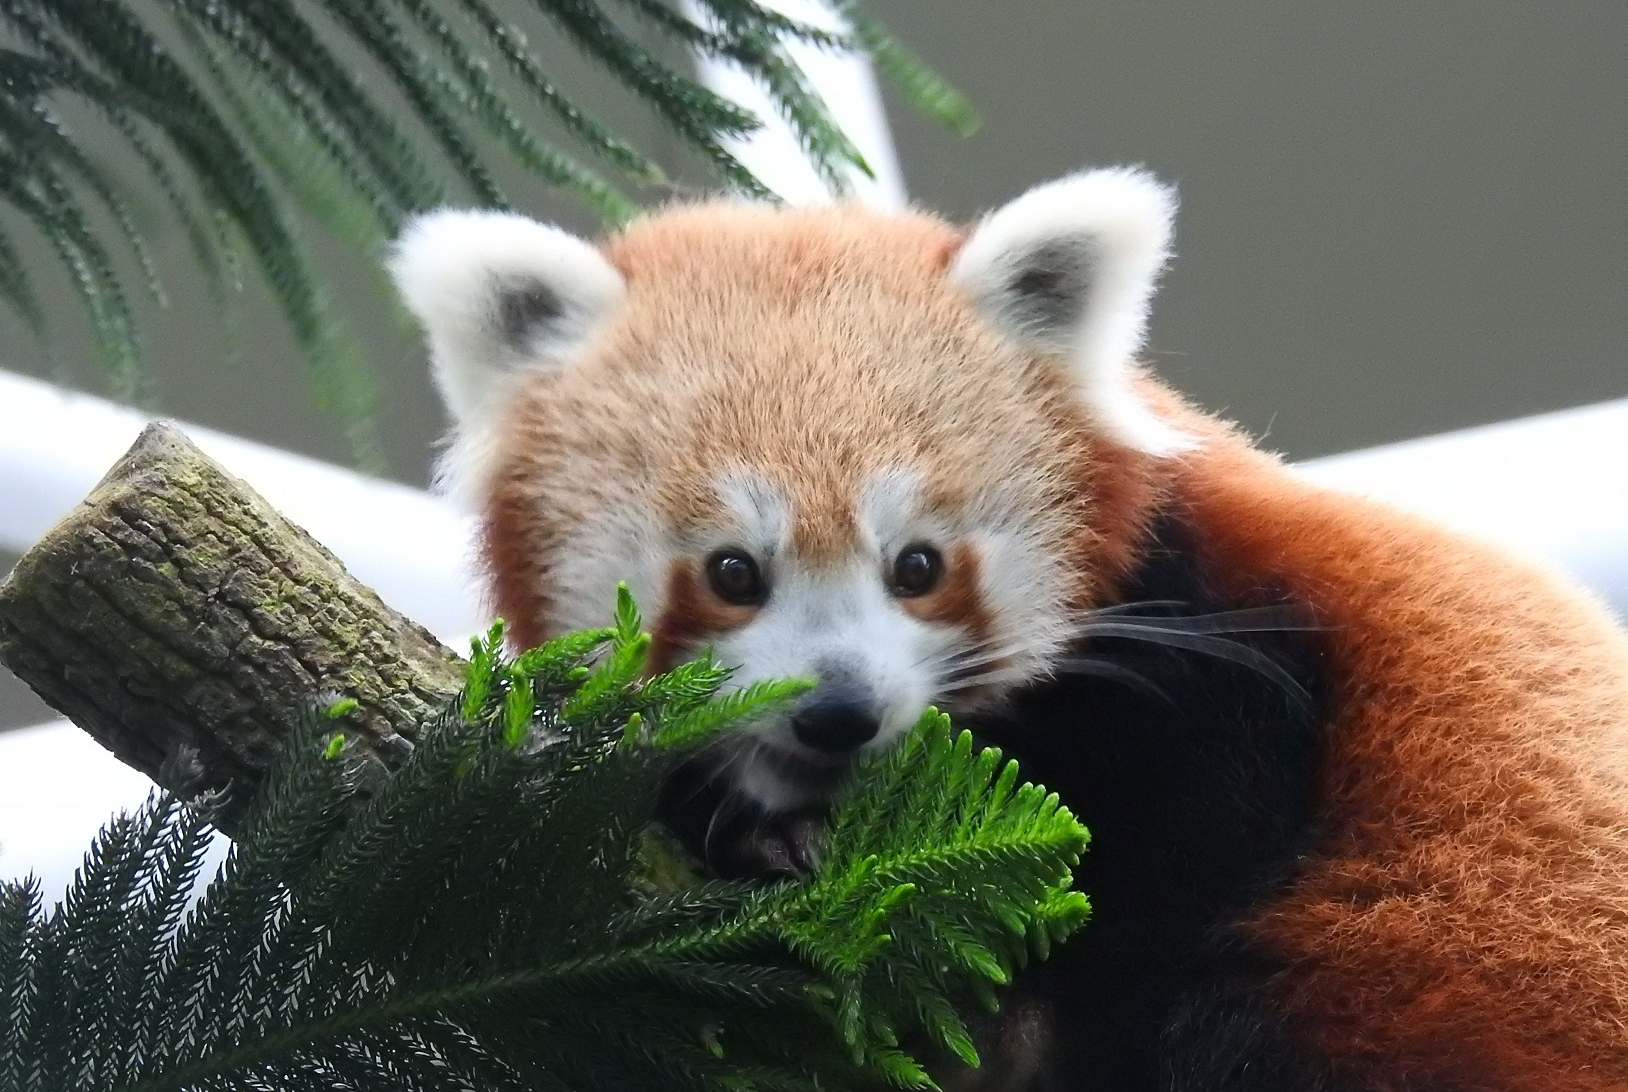Red panda: (391, 162, 1193, 829)
